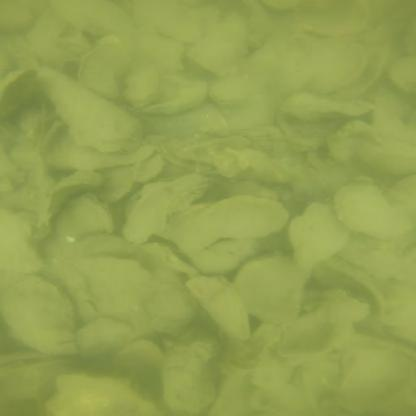Oyster-Closed: (281, 94, 377, 123), (0, 69, 38, 115)
Oyster-Open: (42, 71, 140, 151), (166, 196, 287, 247), (68, 257, 153, 329), (125, 173, 211, 241), (4, 274, 76, 353), (46, 372, 164, 416), (161, 333, 220, 413), (234, 253, 302, 322), (47, 130, 159, 171), (308, 39, 387, 96), (46, 0, 139, 44), (185, 276, 247, 341), (289, 202, 348, 269), (333, 182, 404, 237), (190, 11, 249, 76), (77, 37, 129, 100), (0, 207, 48, 273), (130, 78, 210, 116), (57, 193, 115, 240), (194, 239, 269, 273), (78, 316, 137, 358), (295, 0, 364, 34), (147, 281, 193, 331), (318, 288, 370, 330), (125, 64, 159, 107)
